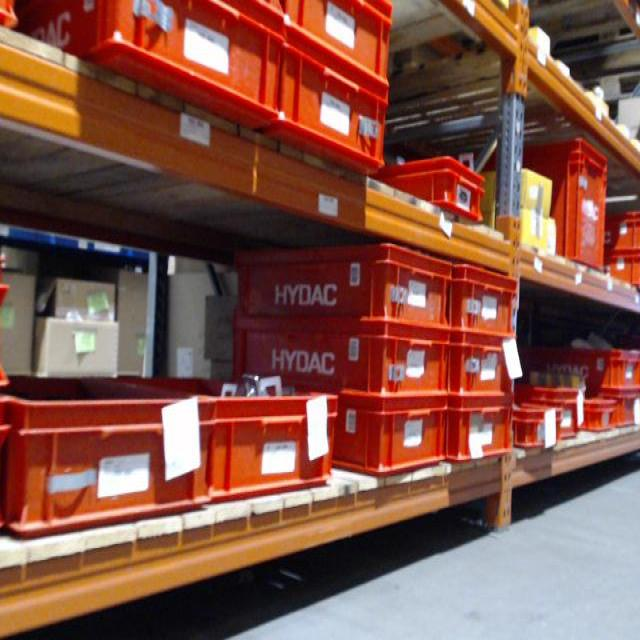pallet: (392, 4, 516, 70), (555, 69, 640, 110)
small_load_carrier: (9, 390, 210, 534), (49, 1, 276, 124), (158, 382, 338, 499), (238, 251, 455, 346), (229, 335, 452, 411), (268, 51, 383, 177), (522, 133, 615, 273), (278, 0, 393, 89), (329, 404, 451, 479), (451, 260, 522, 346), (378, 161, 482, 219), (451, 396, 520, 467), (453, 339, 521, 404), (541, 349, 640, 393), (523, 386, 581, 434), (516, 402, 565, 457), (578, 395, 640, 432), (579, 399, 619, 433), (609, 253, 640, 290), (609, 213, 638, 252), (2, 274, 11, 387), (1, 396, 7, 528)
